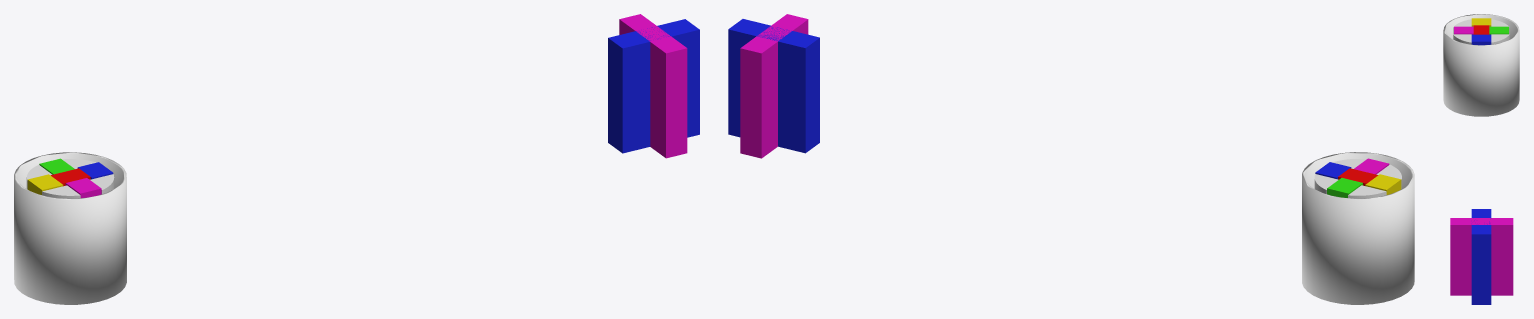
The model's file is circle size thing.fbx.
3 renders of one model, left to right at view 1: azimuth 30°, elevation 25°; view 2: azimuth 150°, elevation 25°; view 3: azimuth 270°, elevation 25°, orthographic. The views are drawn at different scales.
Parts seen in each view (by area): view 1: Cylinder, Cube.010, Cube.007, Cylinder.007, Cube.003, Cube.002; view 2: Cylinder, Cube.010, Cube.007, Cylinder.007, Cube.003, Cube.001; view 3: Cylinder, Cube.007, Cube.010, Cylinder.007, Cube.004, Cube.001, Cube.002, Cube.003, Cube.
Boxes of the visible parts, x1,y1,x2,y2 form: Cylinder: (14, 152, 126, 304); Cube.010: (608, 19, 699, 153); Cube.007: (619, 14, 687, 158); Cylinder.007: (26, 159, 114, 198); Cube.003: (27, 174, 63, 194); Cube.002: (65, 178, 101, 198); Cylinder: (1302, 152, 1414, 304); Cube.010: (728, 19, 819, 153); Cube.007: (740, 14, 808, 158); Cylinder.007: (1314, 159, 1401, 198); Cube.003: (1365, 174, 1401, 194); Cube.001: (1327, 178, 1362, 197); Cylinder: (1443, 14, 1519, 116); Cube.007: (1450, 218, 1513, 295); Cube.010: (1471, 209, 1491, 304); Cylinder.007: (1453, 19, 1509, 44); Cube.004: (1471, 34, 1491, 45); Cube.001: (1489, 26, 1508, 34); Cube.002: (1454, 26, 1473, 34); Cube.003: (1471, 18, 1491, 26); Cube: (1473, 25, 1489, 34).
Size of the model in its own units: 5348 by 800 by 780.
